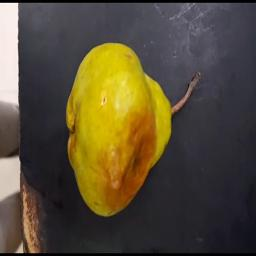Pear Rotten: (52, 26, 208, 222)
